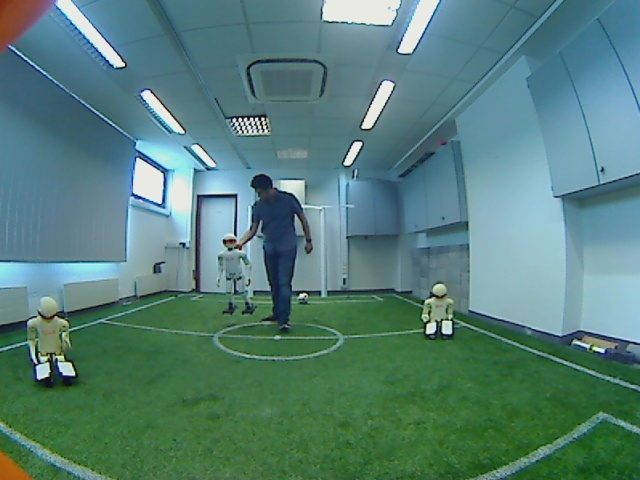ball: (293, 289, 315, 309)
robot: (19, 291, 88, 387), (214, 232, 262, 318), (413, 281, 461, 347)
